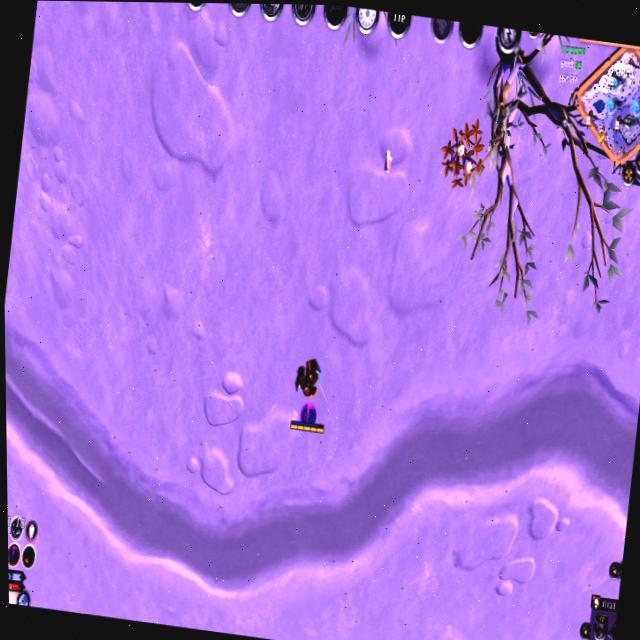hide: (433, 114, 493, 198)
red: (280, 343, 341, 440)
